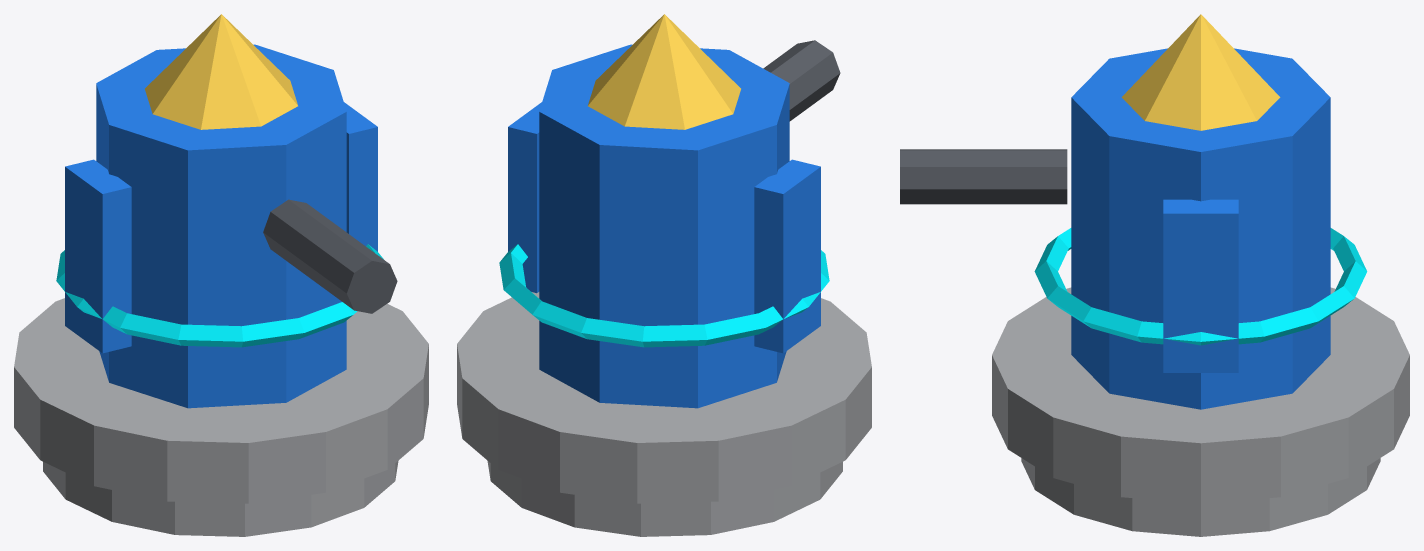
File: TD_BasicTower_T1.fbx
3 views of the same model, side by side, from view 1: azimuth 30°, elevation 25°; view 2: azimuth 150°, elevation 25°; view 3: azimuth 270°, elevation 25° (orthographic).
Parts seen in each view (by area): view 1: TD_BasicTower_T1_Body, TD_BasicTower_T1_Base, TD_BasicTower_T1_LeftReinforcementPlate, TD_BasicTower_T1_Top, TD_BasicTower_T1_Pedestal, TD_BasicTower_T1_Barrel, TD_BasicTower_T1_AccentRing, TD_BasicTower_T1_RightReinforcementPlate; view 2: TD_BasicTower_T1_Body, TD_BasicTower_T1_Base, TD_BasicTower_T1_LeftReinforcementPlate, TD_BasicTower_T1_Top, TD_BasicTower_T1_Pedestal, TD_BasicTower_T1_AccentRing, TD_BasicTower_T1_RightReinforcementPlate, TD_BasicTower_T1_Barrel; view 3: TD_BasicTower_T1_Body, TD_BasicTower_T1_Base, TD_BasicTower_T1_RightReinforcementPlate, TD_BasicTower_T1_Pedestal, TD_BasicTower_T1_Top, TD_BasicTower_T1_Barrel, TD_BasicTower_T1_AccentRing.
Boxes of the visible parts, box(x1,y1,x2,y2) form: TD_BasicTower_T1_Body: box(96, 44, 346, 408); TD_BasicTower_T1_Base: box(14, 298, 428, 503); TD_BasicTower_T1_LeftReinforcementPlate: box(65, 159, 131, 353); TD_BasicTower_T1_Top: box(145, 14, 297, 129); TD_BasicTower_T1_Pedestal: box(43, 460, 398, 536); TD_BasicTower_T1_Barrel: box(263, 199, 397, 313); TD_BasicTower_T1_AccentRing: box(56, 244, 383, 347); TD_BasicTower_T1_RightReinforcementPlate: box(344, 102, 377, 251); TD_BasicTower_T1_Body: box(539, 44, 789, 408); TD_BasicTower_T1_Base: box(457, 292, 871, 503); TD_BasicTower_T1_LeftReinforcementPlate: box(754, 159, 820, 353); TD_BasicTower_T1_Top: box(588, 14, 740, 129); TD_BasicTower_T1_Pedestal: box(487, 460, 842, 536); TD_BasicTower_T1_AccentRing: box(499, 244, 829, 347); TD_BasicTower_T1_RightReinforcementPlate: box(508, 102, 541, 293); TD_BasicTower_T1_Barrel: box(763, 40, 840, 121); TD_BasicTower_T1_Body: box(1071, 48, 1330, 409); TD_BasicTower_T1_Base: box(992, 287, 1409, 503); TD_BasicTower_T1_RightReinforcementPlate: box(1163, 199, 1238, 372); TD_BasicTower_T1_Pedestal: box(1021, 458, 1380, 536); TD_BasicTower_T1_Top: box(1121, 14, 1280, 130); TD_BasicTower_T1_Barrel: box(900, 149, 1067, 204); TD_BasicTower_T1_AccentRing: box(1034, 228, 1367, 345).
Bounding box in the file's own units: 1 × 1.18 × 1.22.
